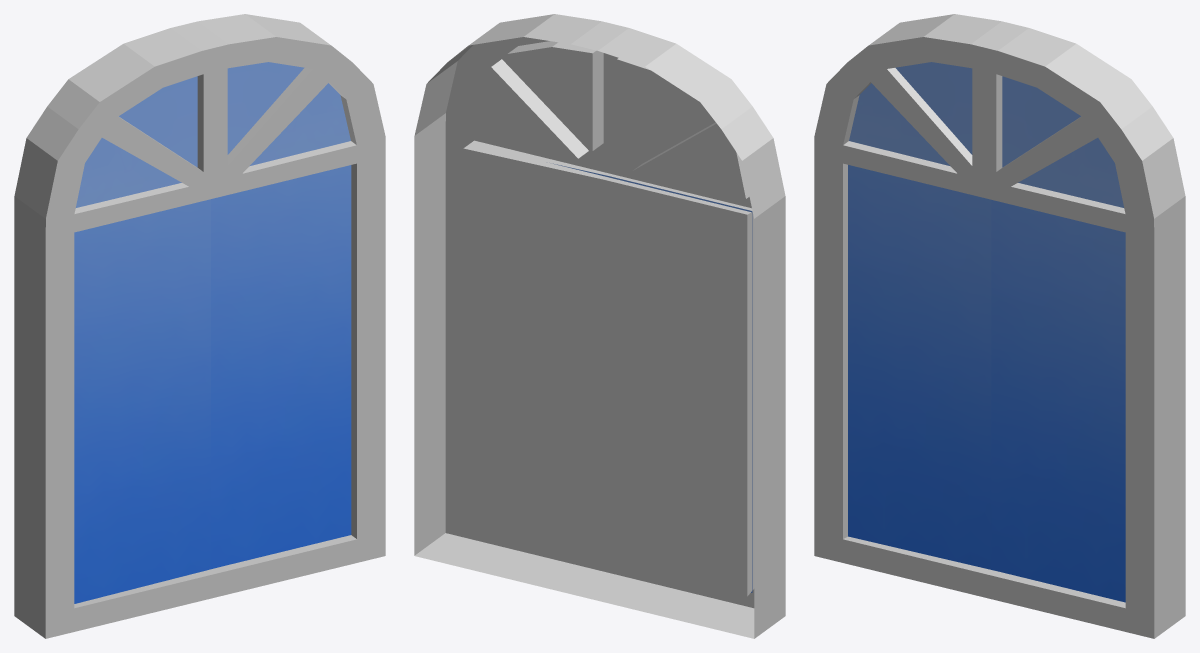
Rendered from window_03.fbx.
3 views of the same model, side by side, from view 1: azimuth 30°, elevation 25°; view 2: azimuth 150°, elevation 25°; view 3: azimuth 330°, elevation 25° (orthographic).
Visible parts, largest first — view 1: pPlane4, pPlane4_Ext_1; view 2: pPlane4_Ext_1, pPlane4; view 3: pPlane4, pPlane4_Ext_1.
Boxes of the visible parts, x1,y1,x2,y2 form: pPlane4: (74, 62, 351, 603); pPlane4_Ext_1: (14, 14, 385, 638); pPlane4_Ext_1: (414, 14, 785, 638); pPlane4: (553, 163, 752, 592); pPlane4: (848, 62, 1125, 602); pPlane4_Ext_1: (814, 14, 1185, 638).
Size of the model in its own units: 143 by 220 by 22.76.
